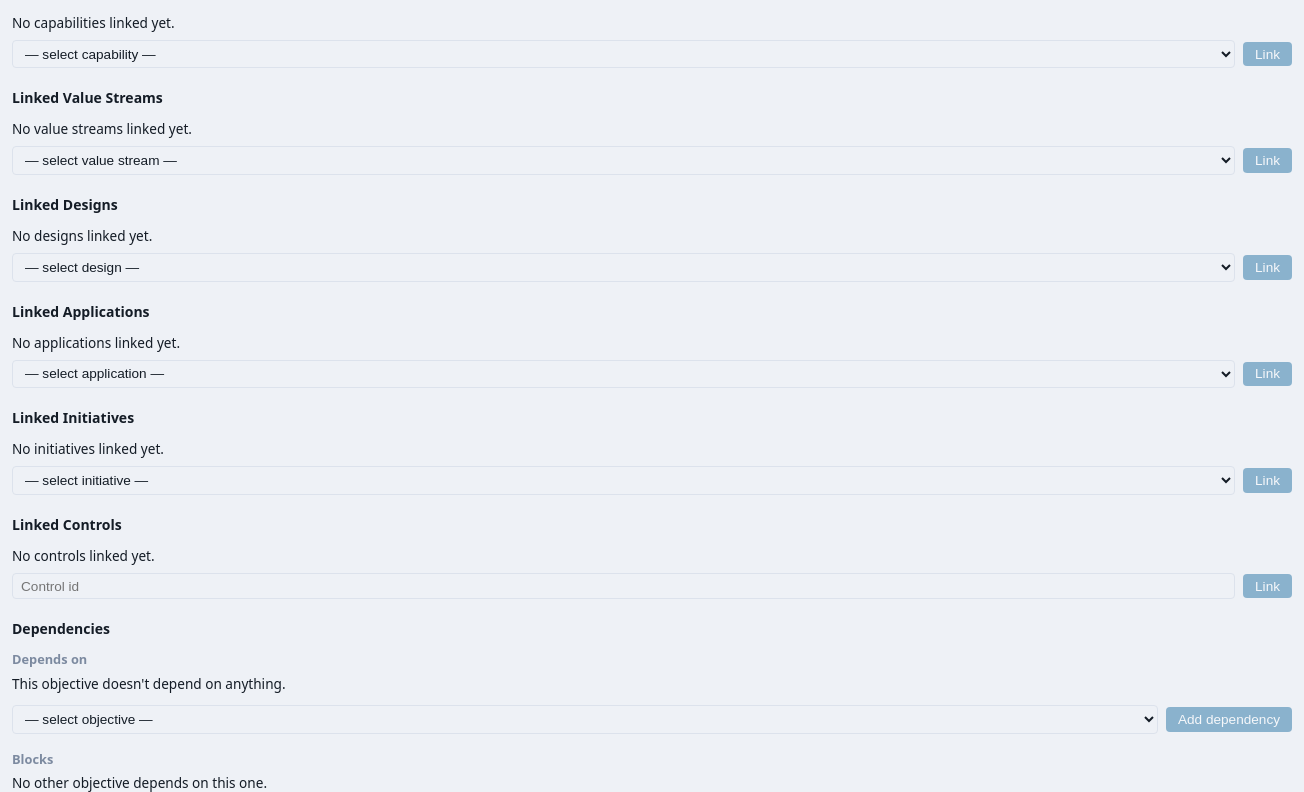
ObjectiveDetail: linked initiatives panel (ADP-d8u.6, T018) › shows a confirmation once linking an initiative succeeds (bug found live, 2026-08-14)
The image size is (1304, 792).
(page scrolled)
Select "Fraud Detection" in the dropdown showing "— select initiative —" below "No initiatives linked yet.": x=624, y=480 [12,466,1235,495]
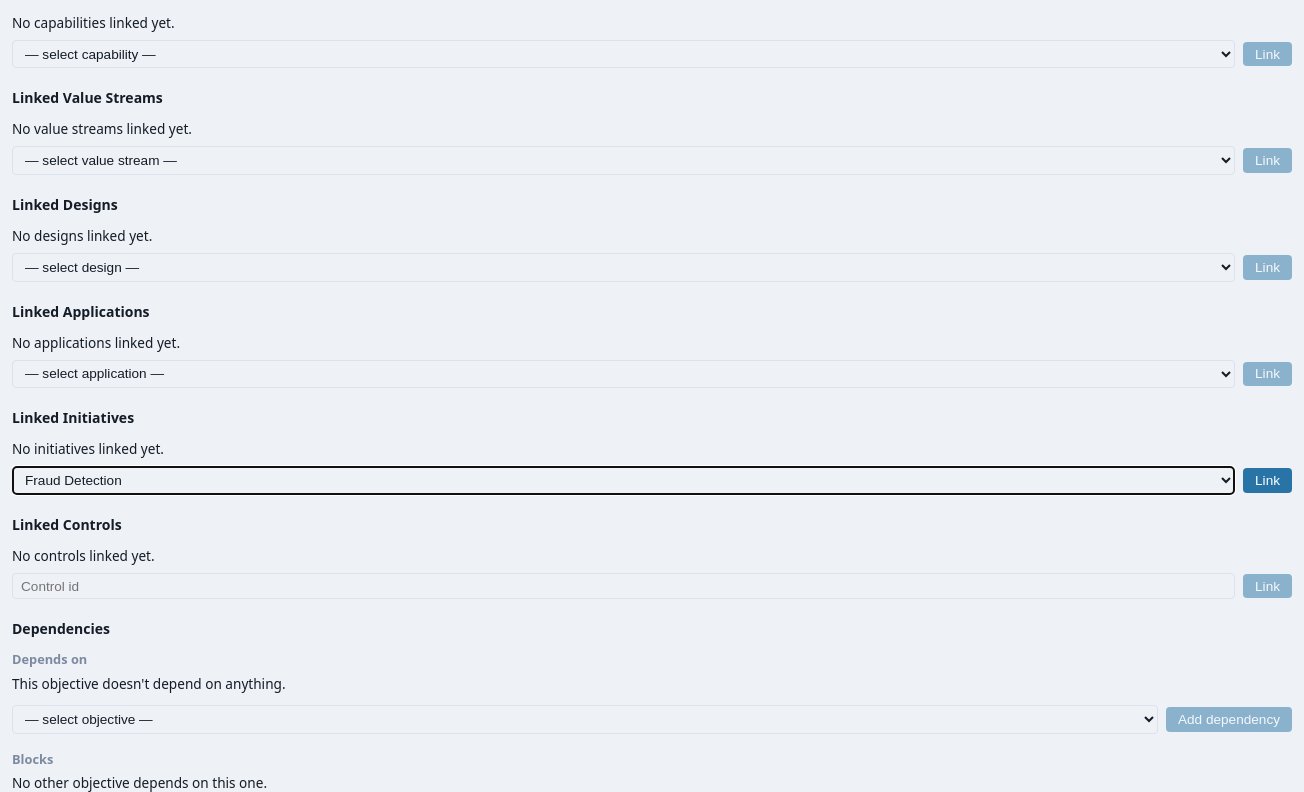
Click the 5th button "Link": x=1268, y=480 [1243,468,1292,493]
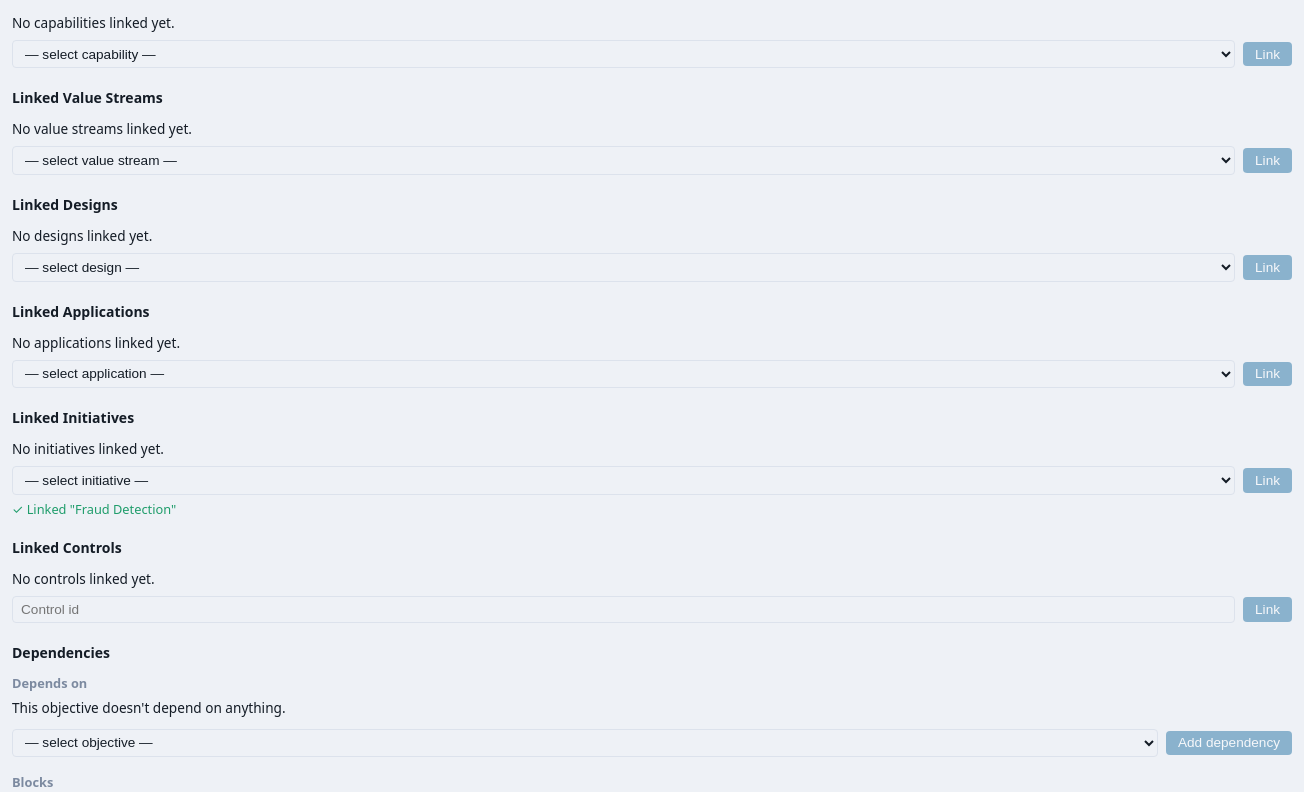
Result: the text "✓ Linked \"Fraud Detection\"" is shown at [12,500,176,518]
